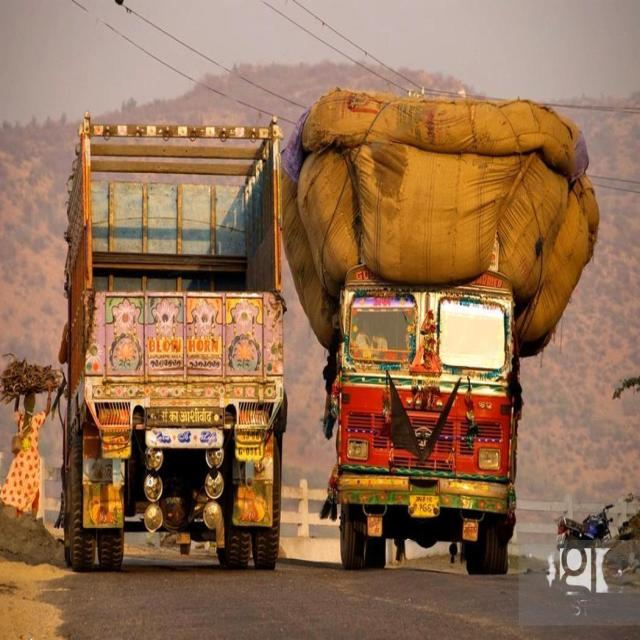truck: (62, 119, 286, 570), (330, 265, 521, 574)
